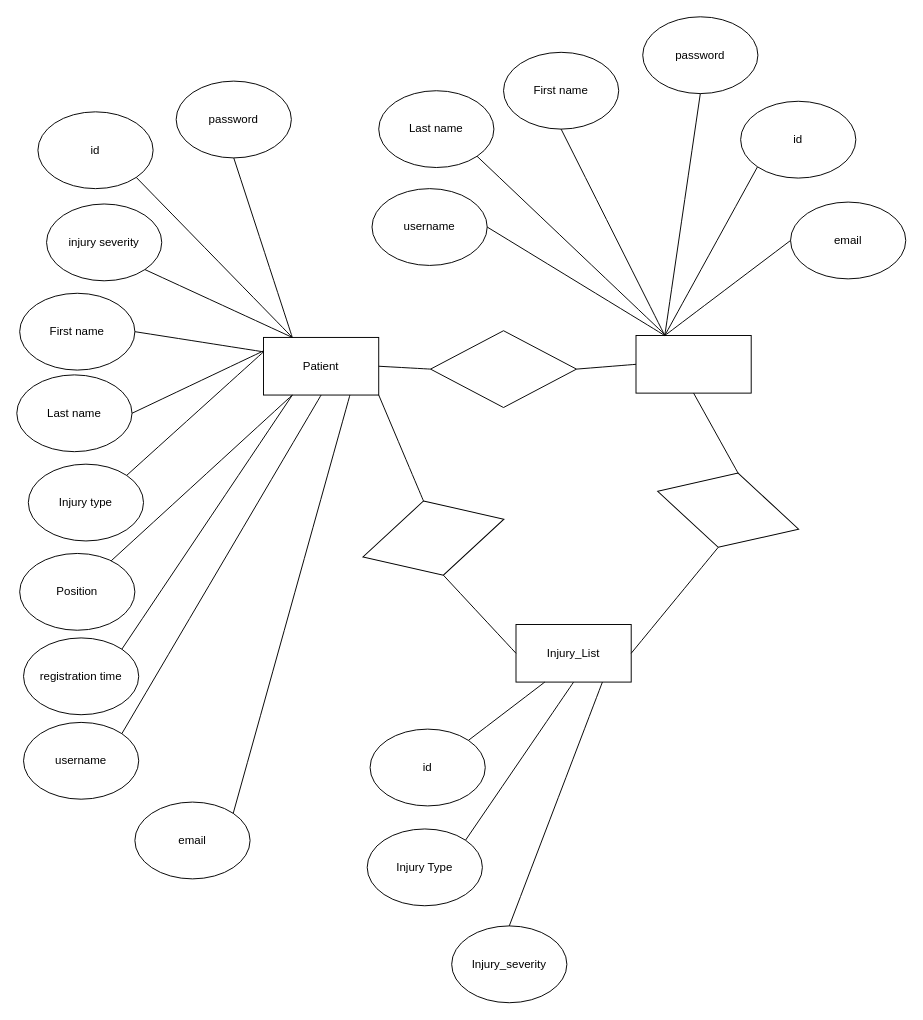
The diagram is 923 pixels wide and 1020 high, and some of its shapes have lost their labels. Each missing label, with the centre of its shape:
"Admin" belongs at (x=693, y=364).
"Can Modify" belongs at (x=728, y=509).
"Registered by" belongs at (x=503, y=369).
"Registered in" belongs at (x=433, y=537).
